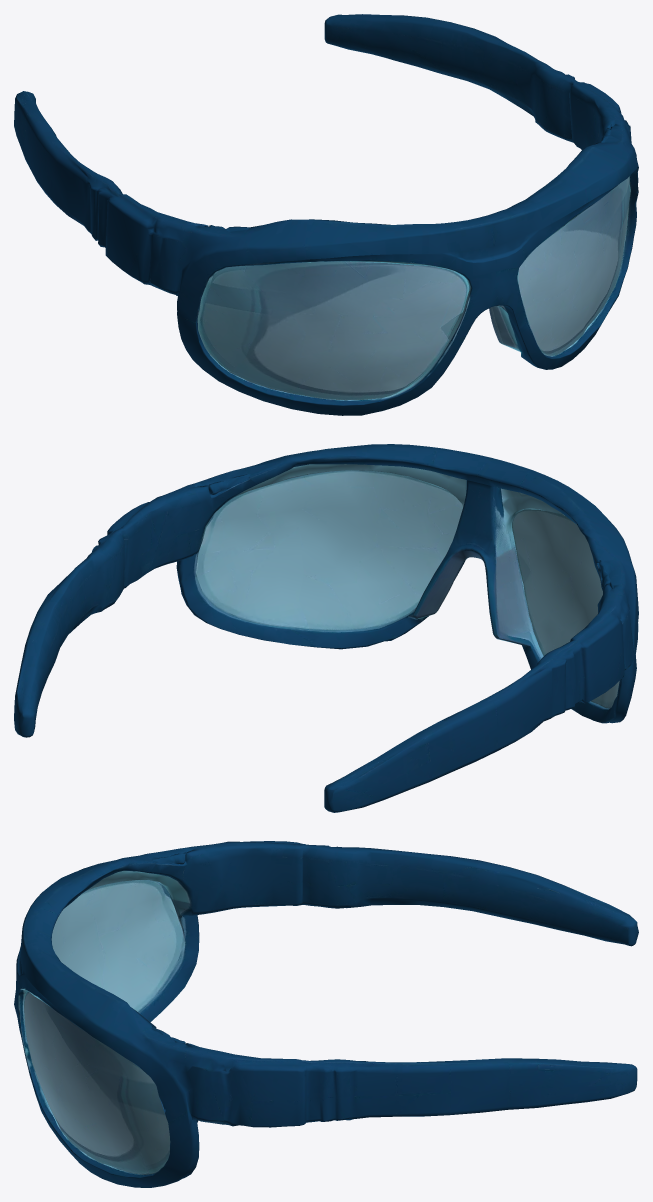
Rendered from goggles.glb.
3 views of the same model, one above another, from view 1: azimuth 30°, elevation 25°; view 2: azimuth 150°, elevation 25°; view 3: azimuth 270°, elevation 25° (orthographic). The views are drawn at different scales.
Size of the model in its own units: 0.8345 by 0.3203 by 0.9536.
Materials: 1 (1 with a texture image).
